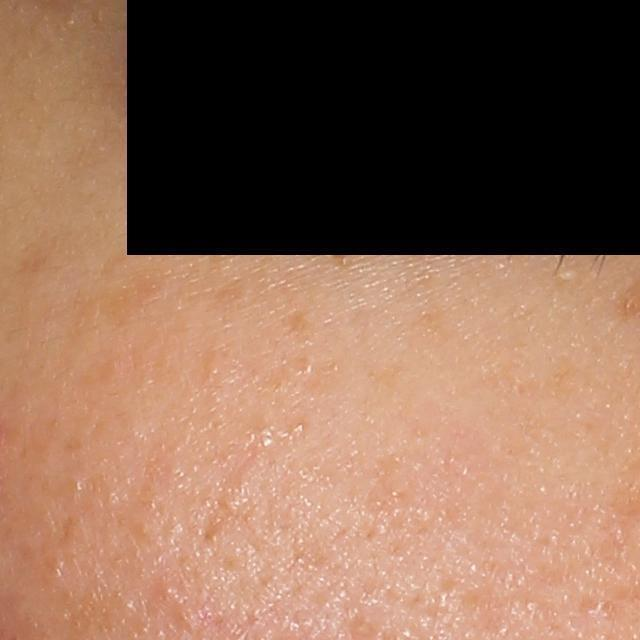melasma: (74, 267, 173, 327), (11, 234, 82, 283), (279, 300, 320, 340)
